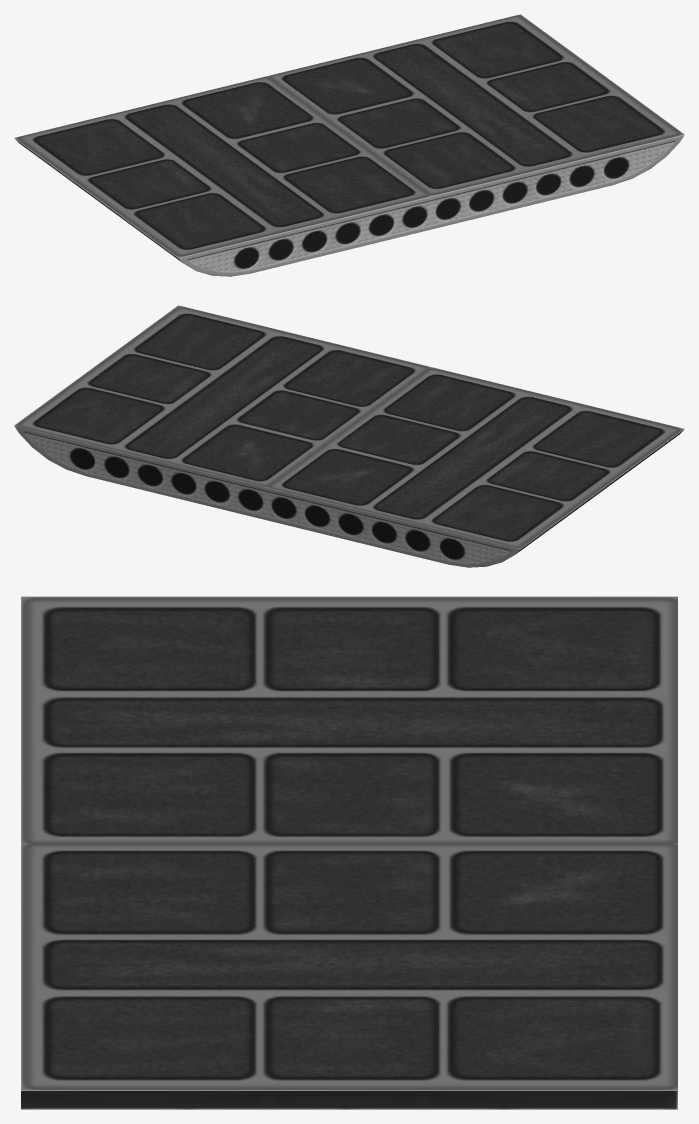
The model's file is Flatbed1uStd.FBX.
3 renders of one model, top to bottom at view 1: azimuth 30°, elevation 25°; view 2: azimuth 150°, elevation 25°; view 3: azimuth 270°, elevation 25°, orthographic. The views are drawn at different scales.
Visible parts, largest first — view 1: Flatbed1U002, Flatbed1U001; view 2: Flatbed1U002, Flatbed1U001, Flatbed1U004, Flatbed1U003; view 3: Flatbed1U001, Flatbed1U002.
Part boxes in pixels (x1=…): Flatbed1U002: x1=14, y1=76, x2=431, y2=276; Flatbed1U001: x1=267, y1=14, x2=684, y2=229; Flatbed1U002: x1=268, y1=367, x2=684, y2=567; Flatbed1U001: x1=14, y1=305, x2=431, y2=487; Flatbed1U004: x1=14, y1=425, x2=267, y2=520; Flatbed1U003: x1=267, y1=487, x2=520, y2=567; Flatbed1U001: x1=21, y1=843, x2=677, y2=1109; Flatbed1U002: x1=21, y1=596, x2=677, y2=843.
Size of what is drawn, in the model's own units: 1.5 by 0.094 by 0.8446.
